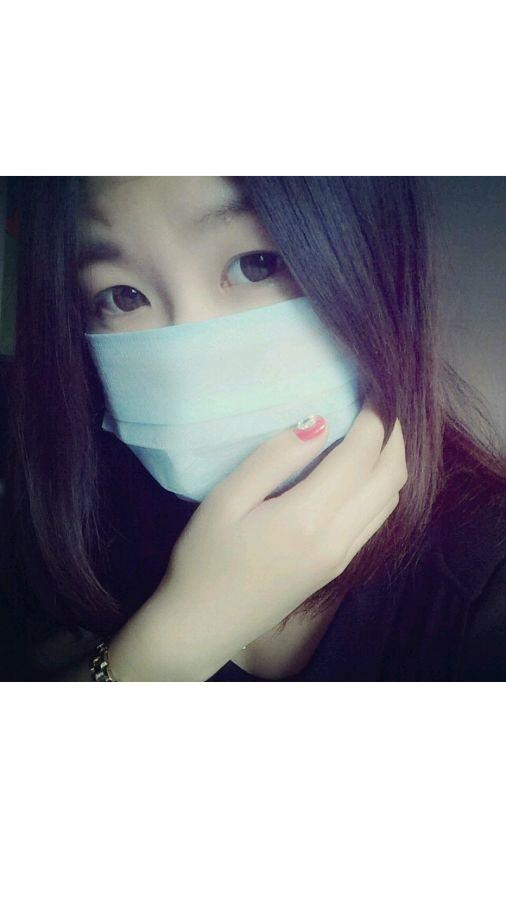OK: (63, 191, 368, 496)
